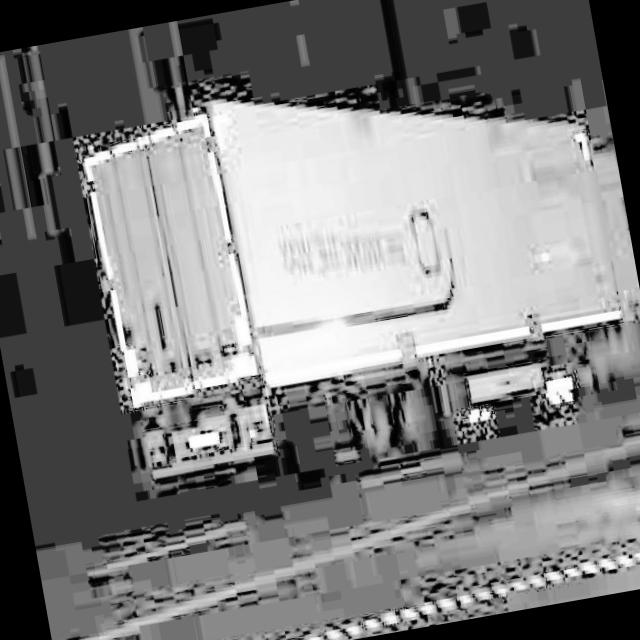Truck: (67, 26, 640, 509)
